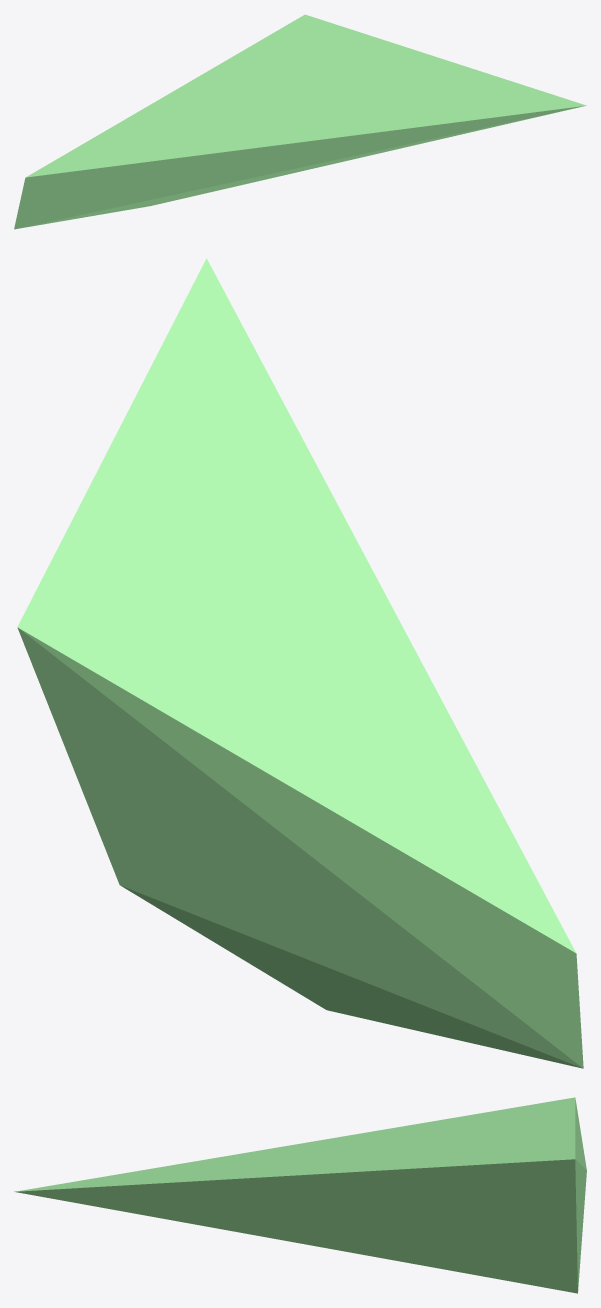
File: linkhou_robot_base_coll_6.dae
3 views of the same model, one above another, from view 1: azimuth 30°, elevation 25°; view 2: azimuth 150°, elevation 25°; view 3: azimuth 270°, elevation 25° (orthographic). The views are drawn at different scales.
Parts seen in each view (by area): view 1: Node_00000298084325F0; view 2: Node_00000298084325F0; view 3: Node_00000298084325F0.
Boxes of the visible parts, box(x1,y1,x2,y2) form: Node_00000298084325F0: box(14, 14, 586, 229); Node_00000298084325F0: box(17, 258, 583, 1068); Node_00000298084325F0: box(14, 1097, 586, 1293).
Size of the model in its own units: 0.1857 by 0.0828 by 0.1624.
